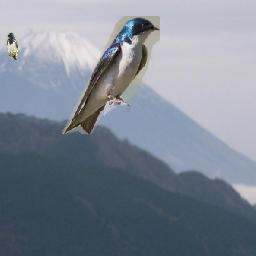Swallow: (62, 16, 160, 134), (6, 32, 18, 60)
